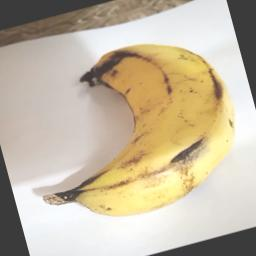Banana Unripe: (7, 9, 256, 240)
